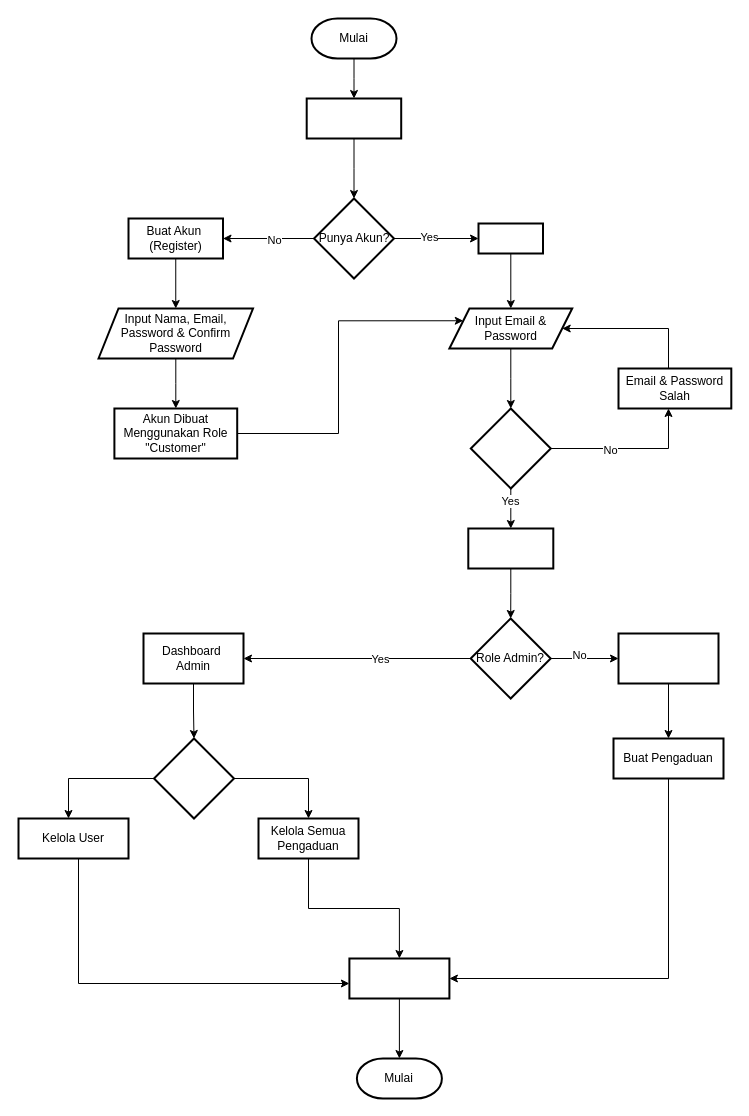
Some shapes in this 749 by 1116 pixel diagram are drawn without their labels. The centre of each missing label's shape, as x and y in pixels:
"Bikin Session" goes at point 510,548.
"Buka Aplikasi" goes at point 353,118.
"Dashboard Customer" goes at point 668,658.
"login" goes at point 510,238.
"Logout" goes at point 399,978.
"Pilih Menu?" goes at point 193,778.
"Sudah Benar?" goes at point 510,448.
